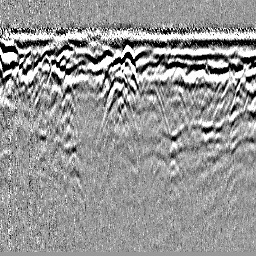cavity: (119, 43, 136, 75)
